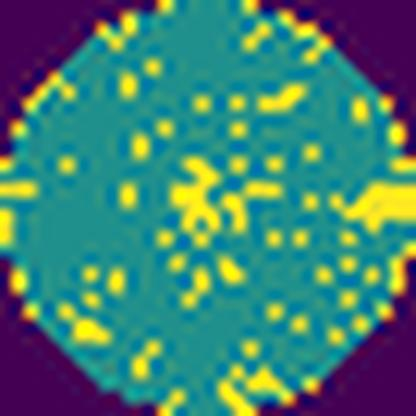Center: (170, 153, 223, 247)
